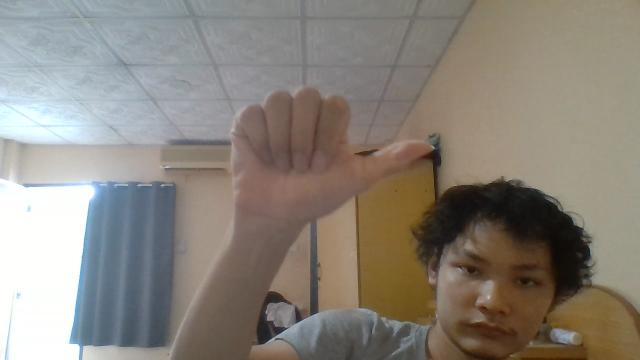left: (228, 86, 436, 228)
